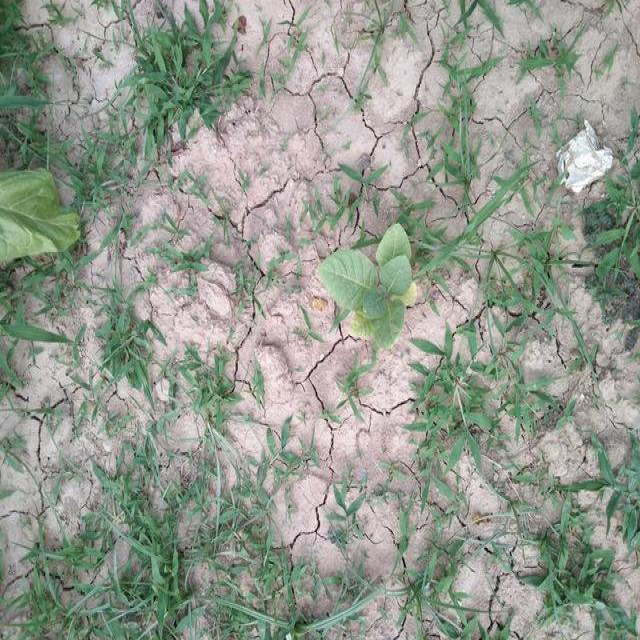crop: (323, 210, 415, 353), (0, 170, 79, 266)
